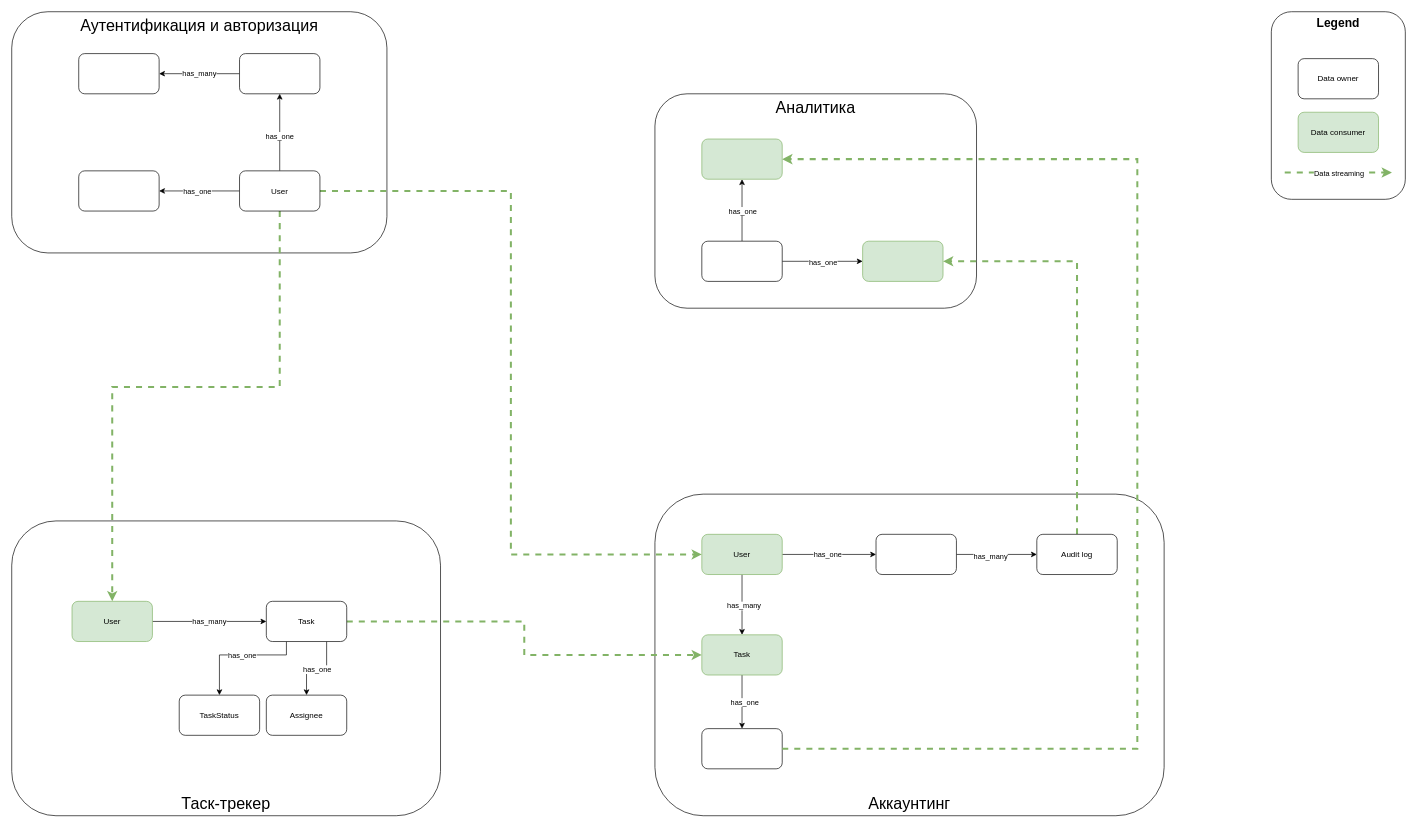
Image size: 1417x827. Some labels were removed from this diagram. Each missing label, with the centre of its shape:
Account: point 915,554
Email: point 118,190
Permission: point 118,73
Report: point 741,261
Role: point 279,73
TaskCost: point 741,748
TopCostTask: point 741,158
TotalAmount: point 902,261
